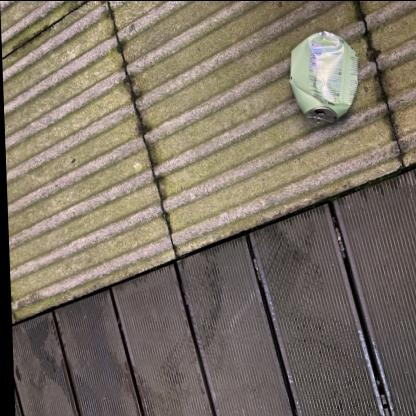trash: (290, 31, 357, 124)
